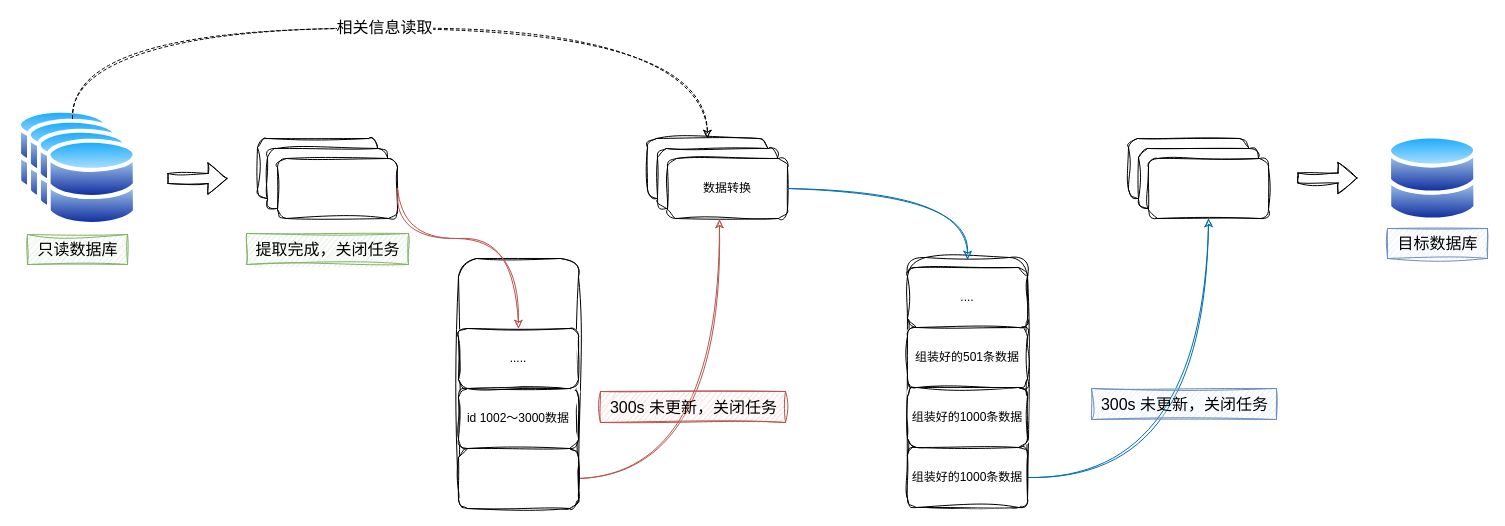
Image size: 1505x526. Some labels were removed from this diagram. The box of each missing label's shape, as (x1, y1, x2, y2) in pixels:
id1～1000数据: (458, 448, 578, 508)
数据加载: (1148, 158, 1268, 218)
数据提取: (276, 158, 398, 218)
